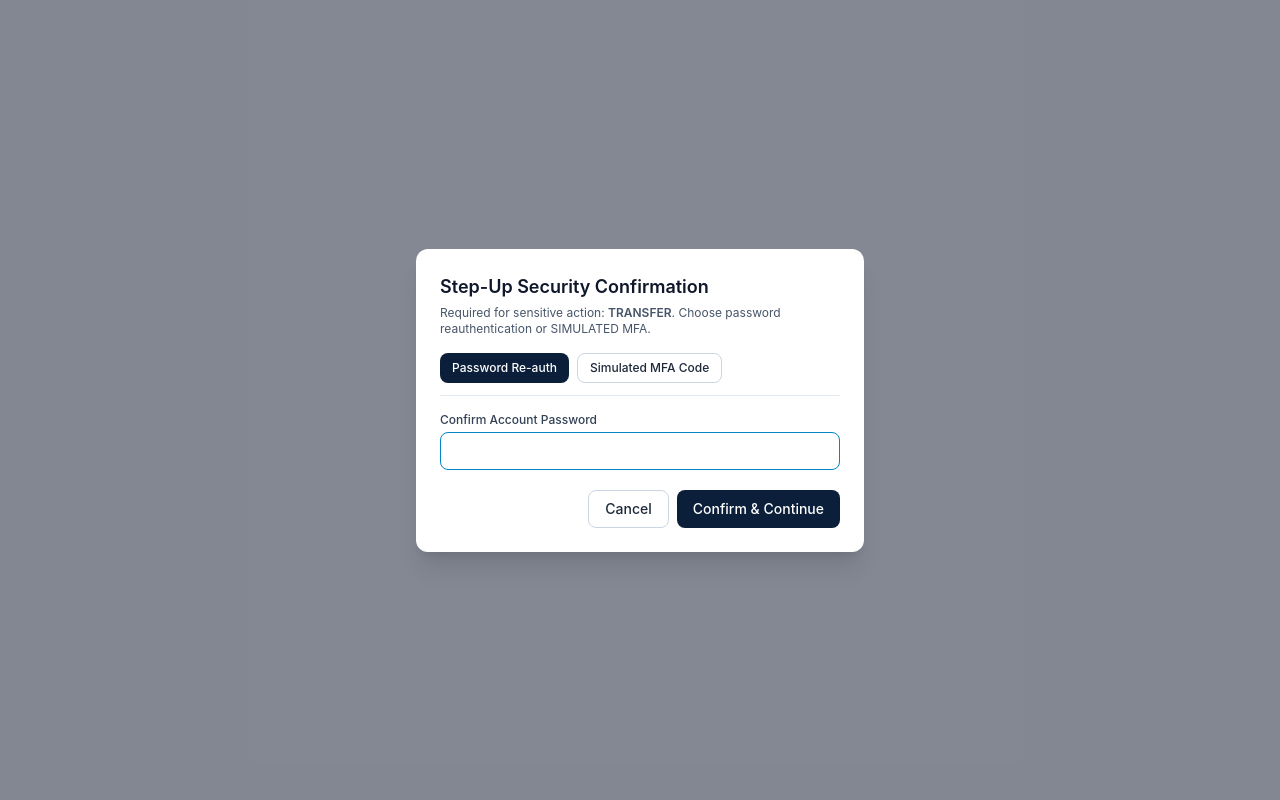
it: FinCore Frontend UI, Accessibility & Workspace Components › renders StepUpDialog tabs, handles Escape key, and resets state across reopen
The image size is (1280, 800).
Later steps or results of the test are not shown.
Click the tab "Simulated MFA Code". click: (650, 368)
box: [577,352,722,382]
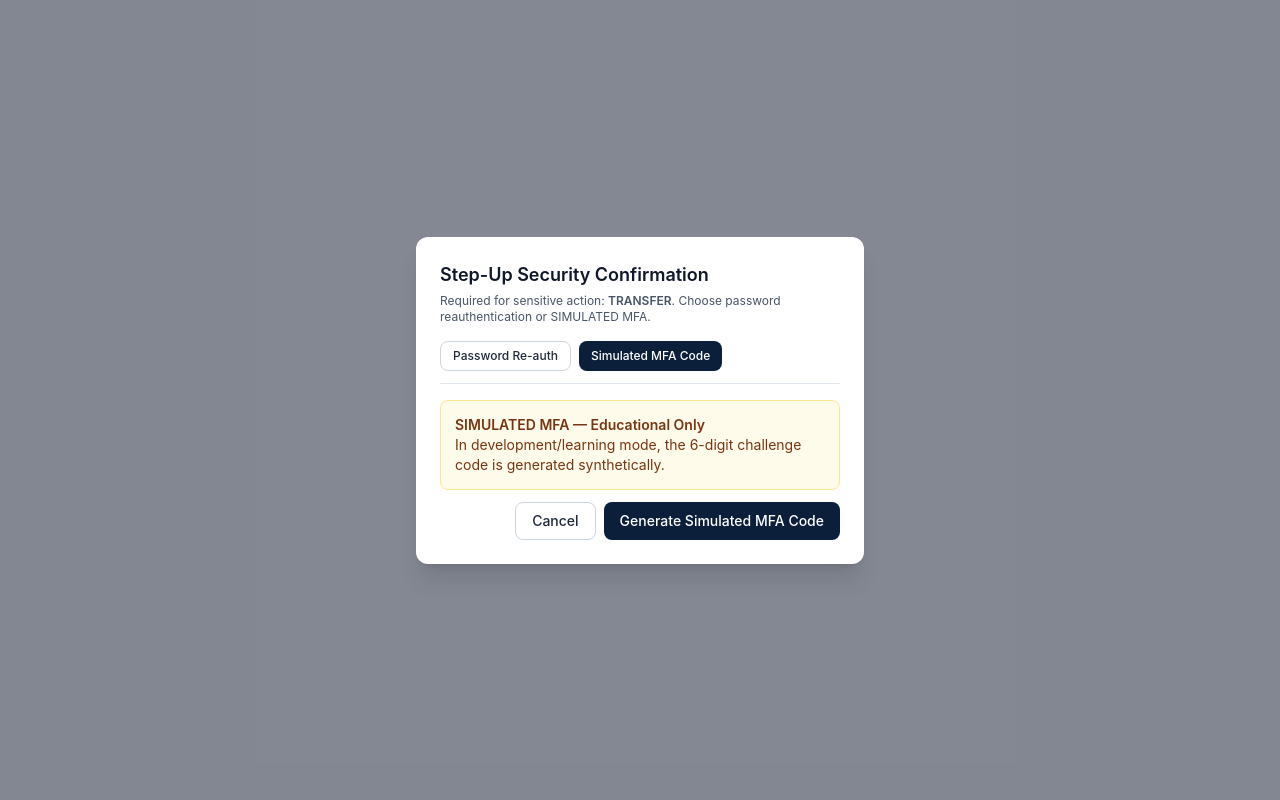
Now the text "SIMULATED MFA — Educational Only" is shown, box [455,416,705,432]
